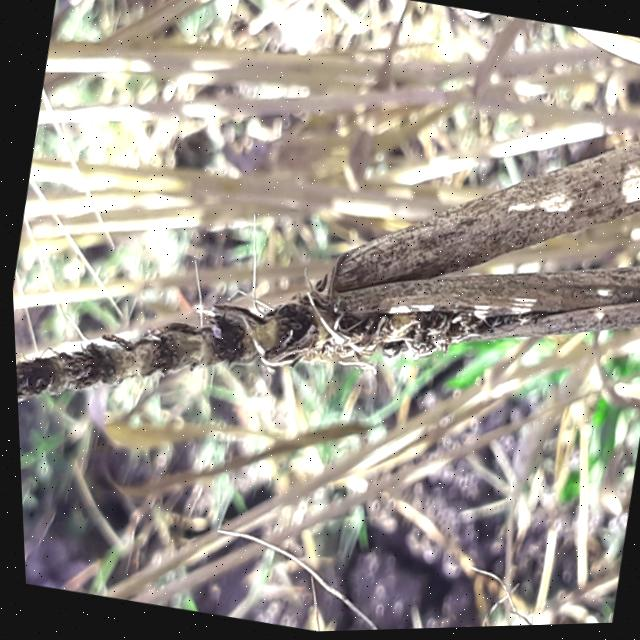loose_charred: (1, 3, 640, 531), (359, 555, 610, 632)
